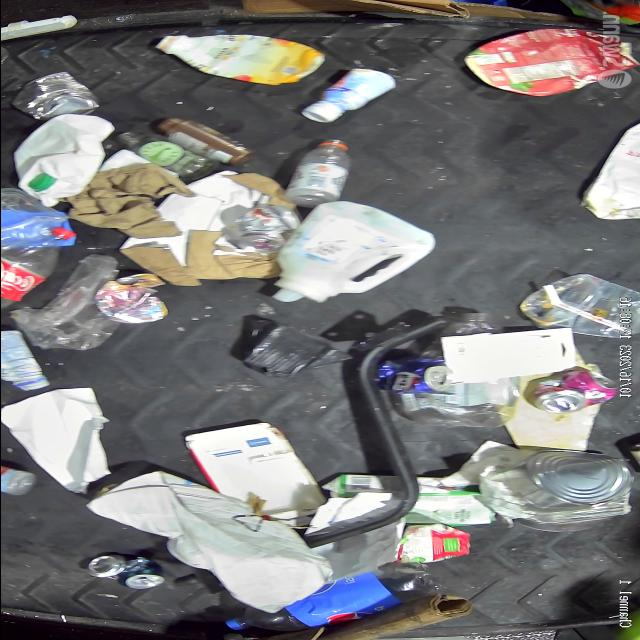can: (532, 443, 624, 506), (531, 369, 622, 414), (21, 70, 106, 116), (374, 354, 456, 396), (100, 556, 166, 590)
milk_jug: (273, 194, 433, 303), (19, 114, 120, 202)
non_white_jug: (464, 31, 633, 102)
